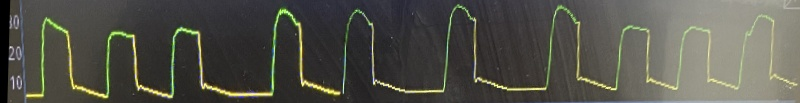normal_pressure: (28, 0, 787, 103)
